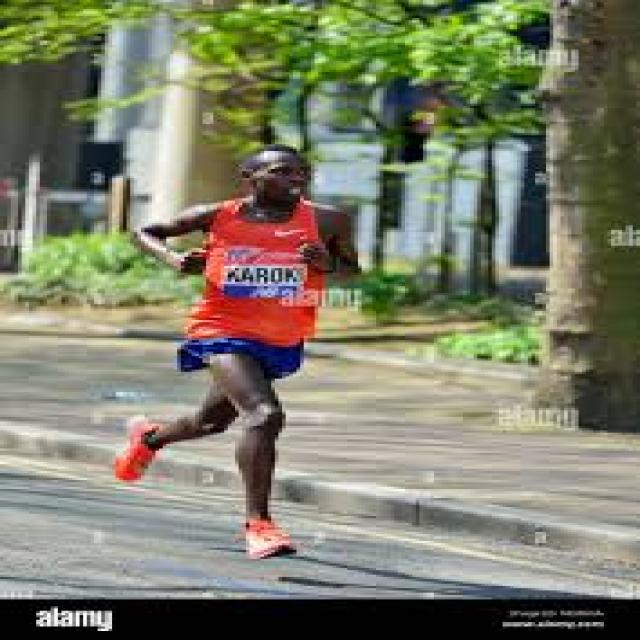running: (103, 144, 370, 562)
